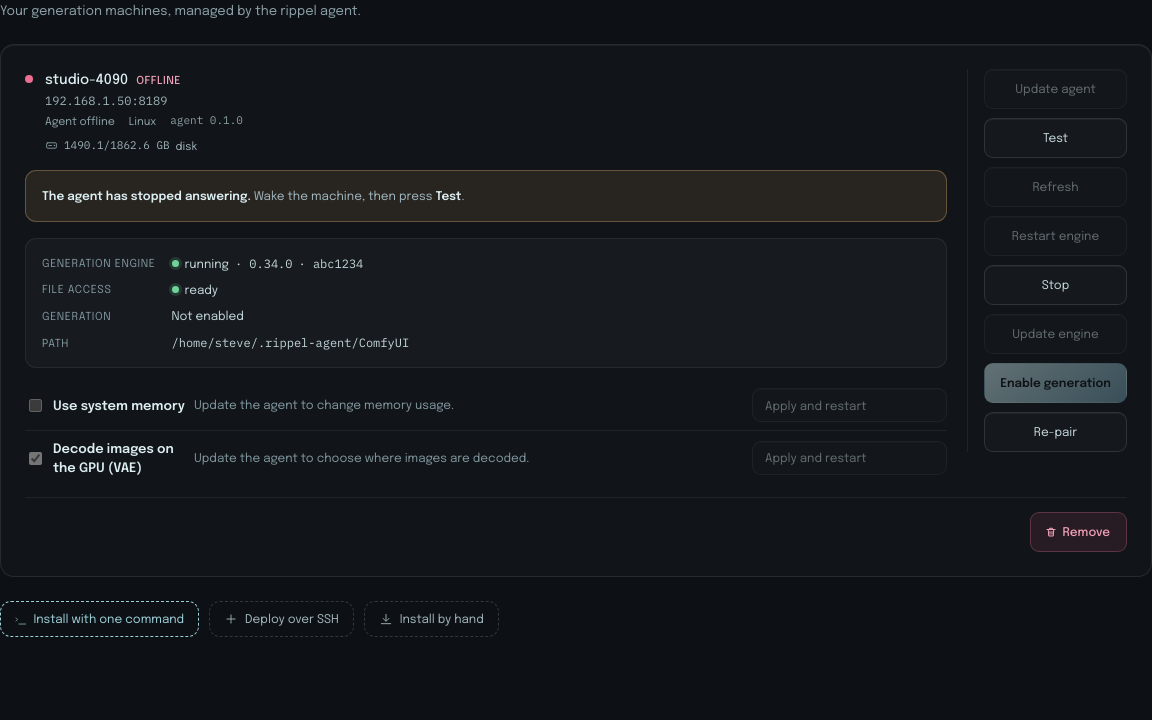
DeploymentsSection › keeps the successful ping and previous ComfyUI details if the detail refresh fails
Click the button "Test" at x=1056, y=138, box [984,118,1127,158]
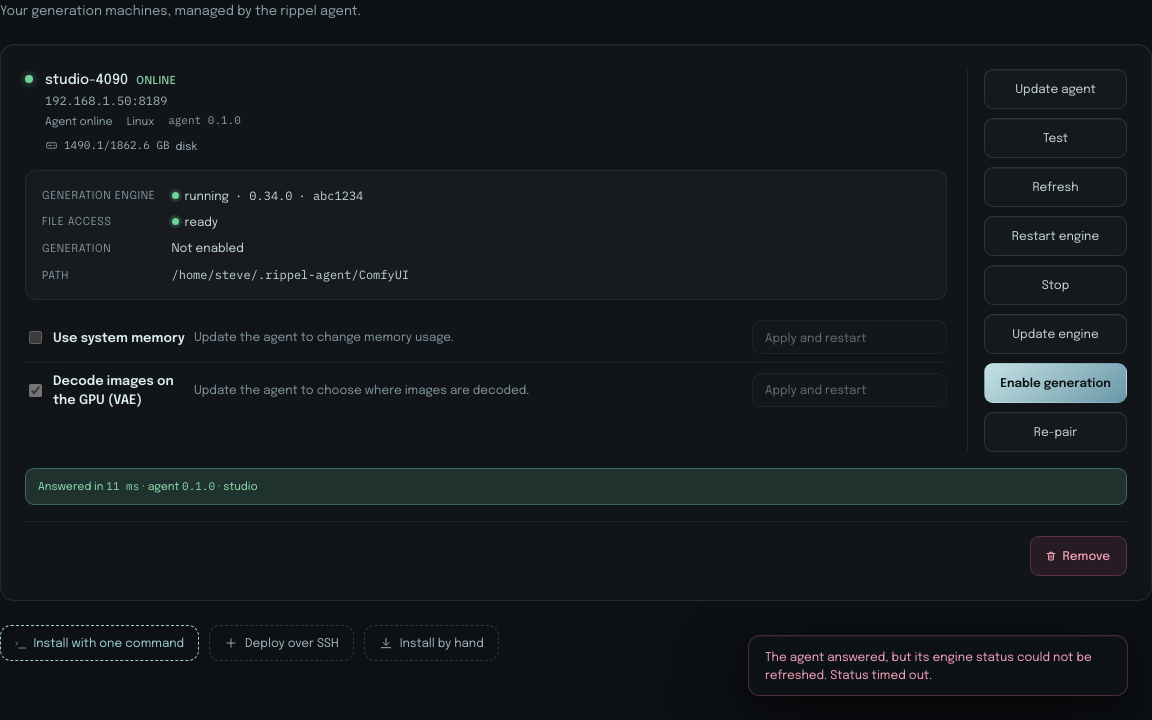
Expected: the text "running · 0.34.0 · abc1234" is shown, [172,188,363,203]
Now the text "online" is shown, box [136,72,176,88]
Now the text "engine status could not be refreshed" shows "Status timed out.", box [765,650,1092,681]
